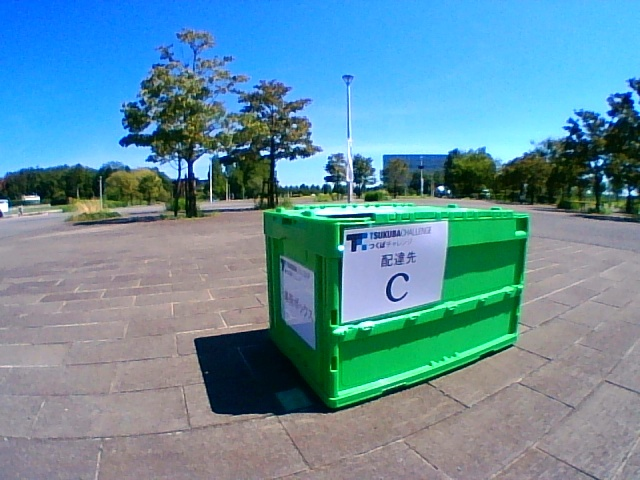green_box: (263, 203, 530, 407)
tag_c: (356, 231, 428, 303)
